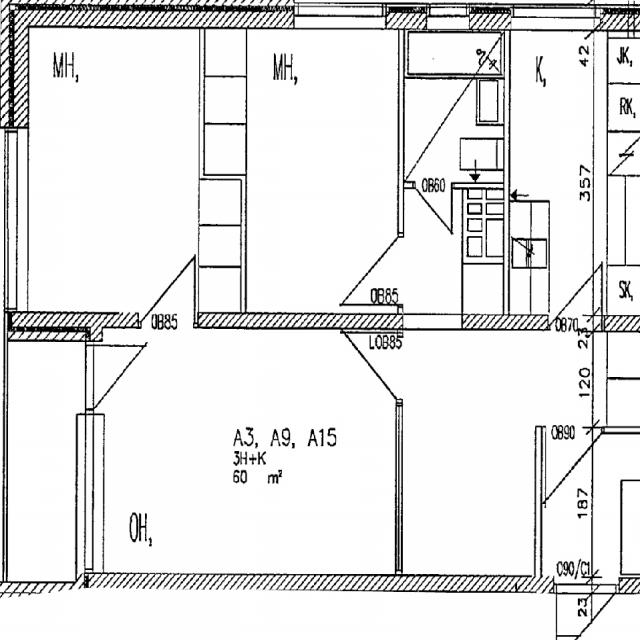door: (138, 245, 194, 328), (85, 344, 147, 412), (546, 425, 601, 501), (340, 332, 402, 398), (549, 250, 601, 328), (554, 576, 616, 640), (344, 237, 404, 303), (414, 182, 452, 234)
